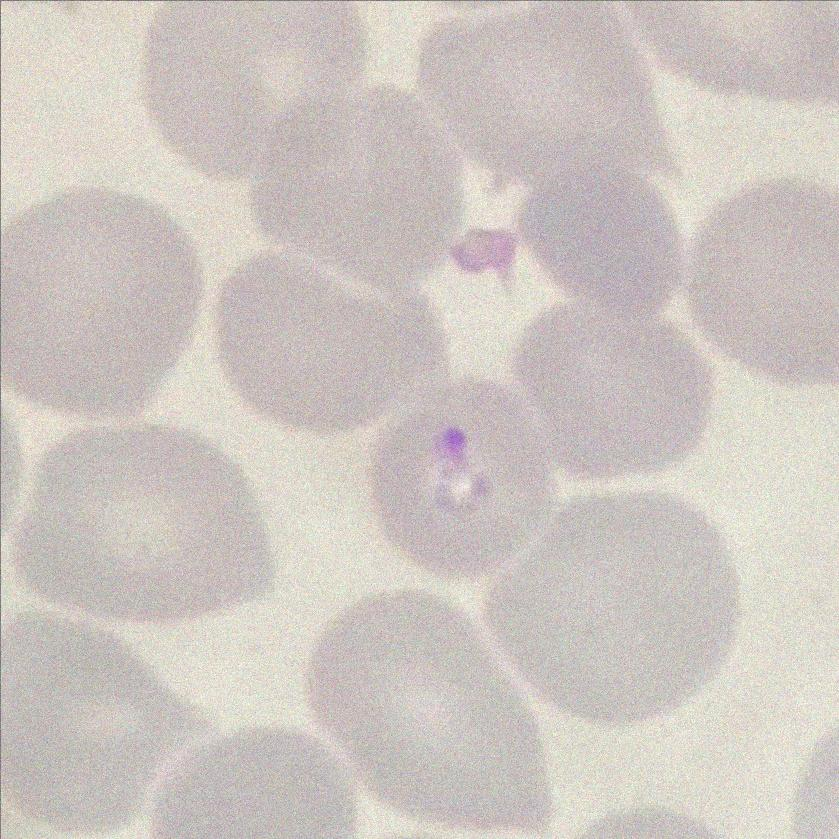Infected: (365, 375, 553, 581)
Uninfected: (305, 587, 554, 830), (488, 490, 742, 723), (12, 420, 285, 615), (415, 0, 682, 194), (253, 85, 473, 304), (0, 180, 197, 419), (0, 607, 206, 831), (213, 249, 443, 433), (138, 0, 367, 184), (505, 302, 715, 479), (680, 179, 839, 386), (147, 720, 362, 839), (520, 160, 682, 315)
